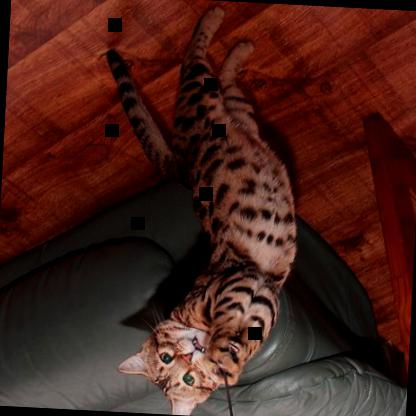cat: (85, 0, 310, 415)
